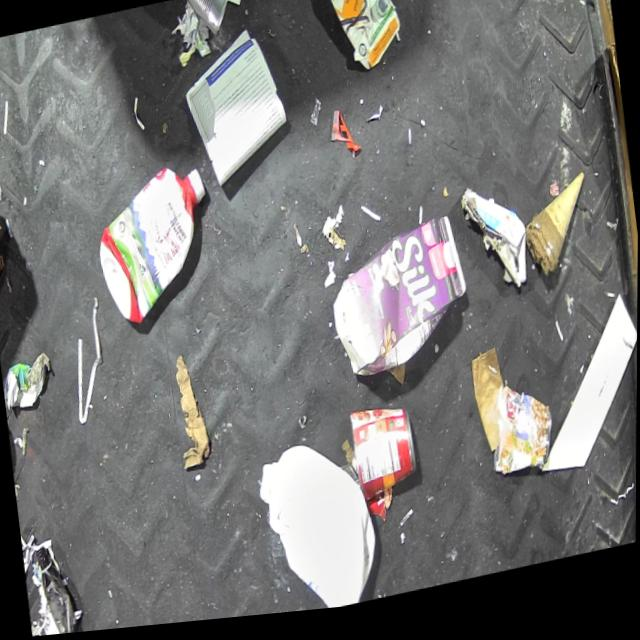can: (347, 387, 430, 522), (169, 0, 252, 39)
milk_jug: (252, 434, 385, 621)
